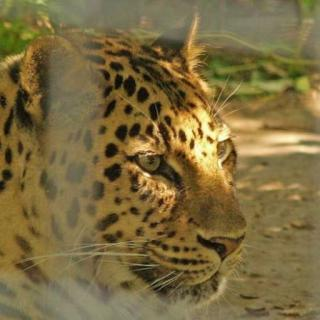Leopard: (0, 0, 252, 320)
